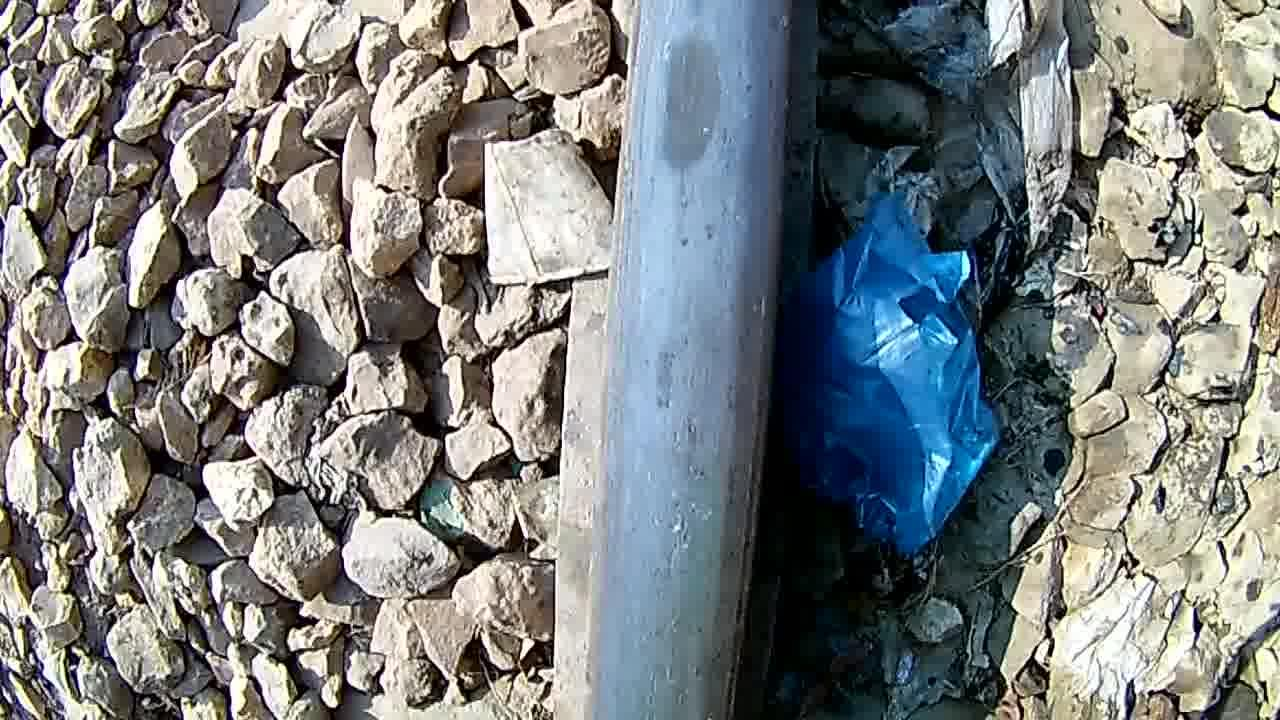bolt_missing: (623, 0, 770, 254)
